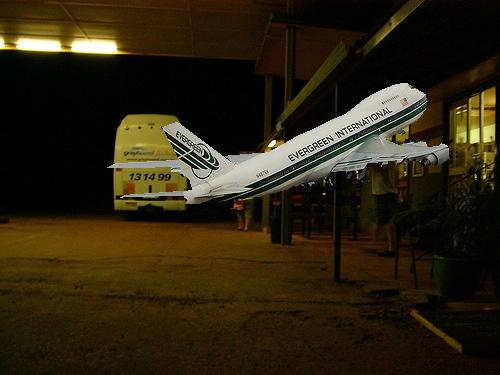tampered: (108, 84, 449, 204)
